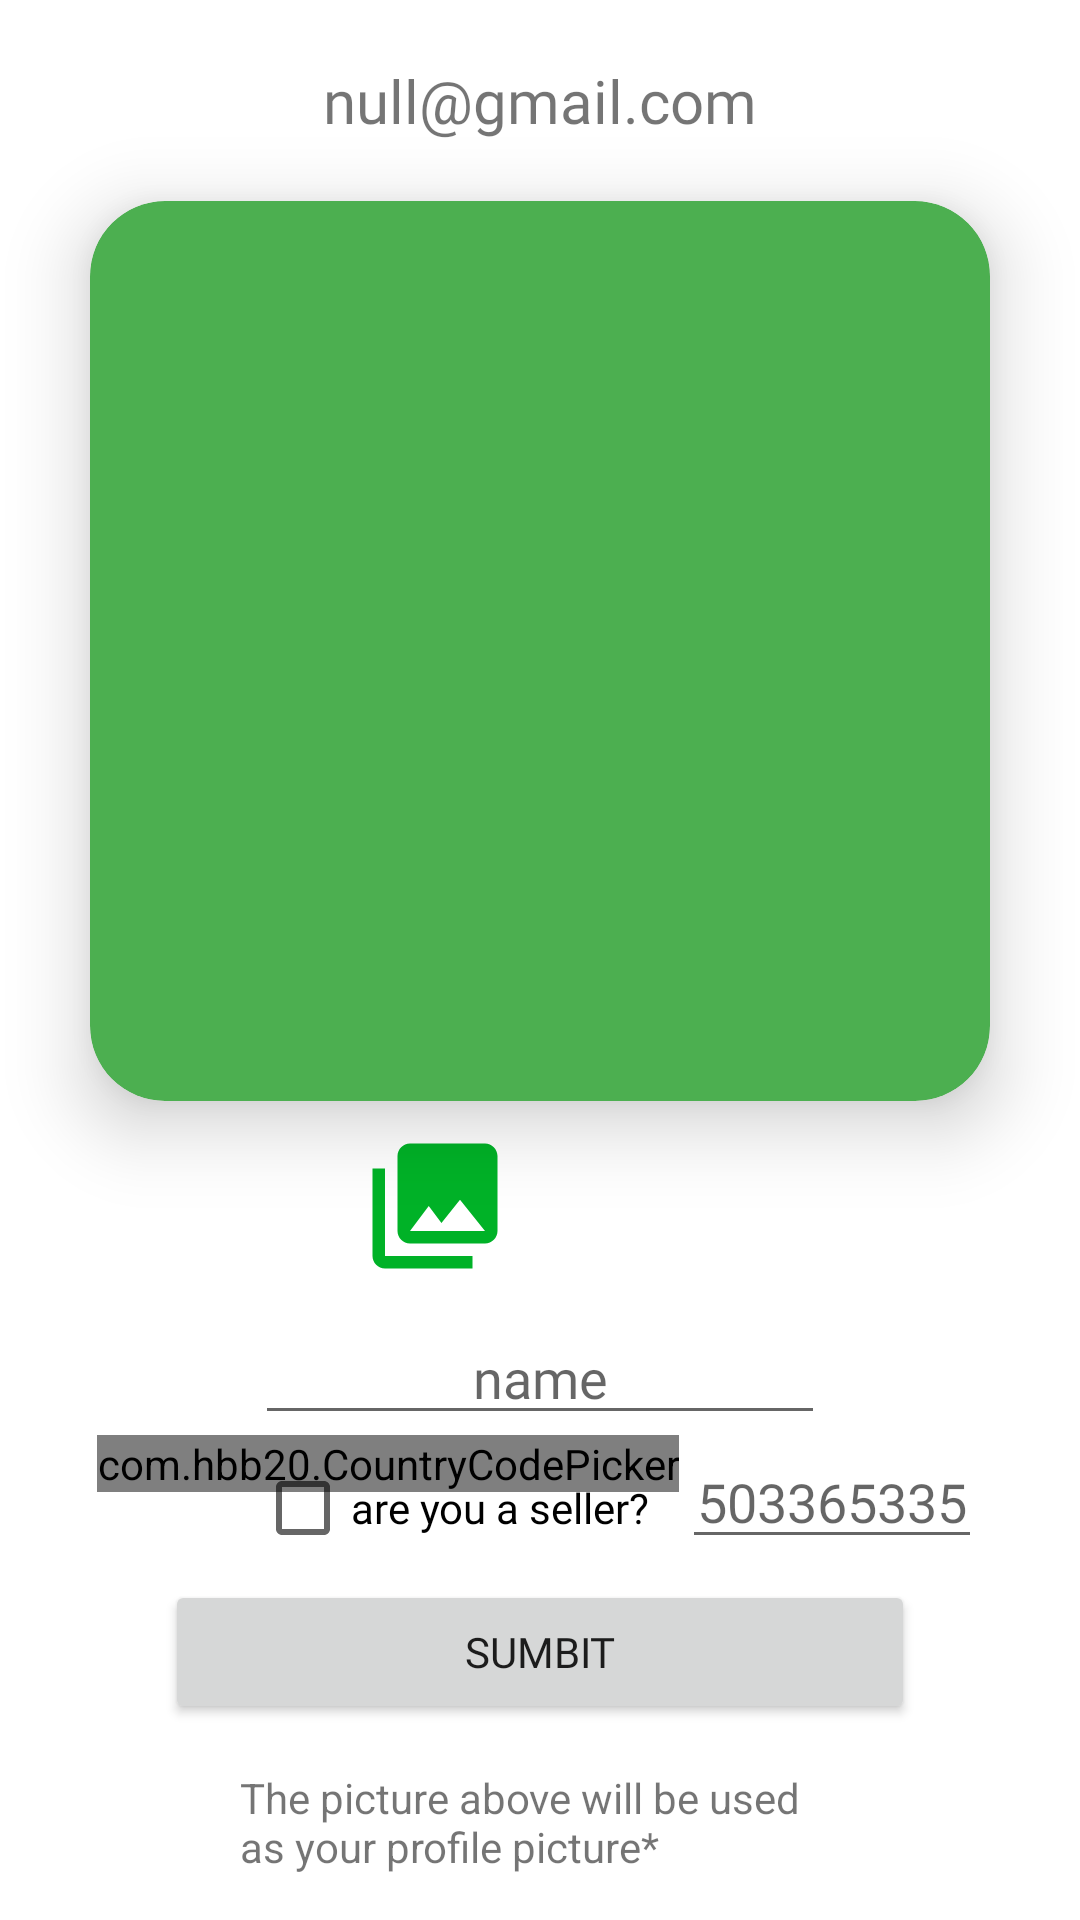

Where to tap for icons on this 1080x1920 app screen, as [x,y]:
gallery: [435,1206]
